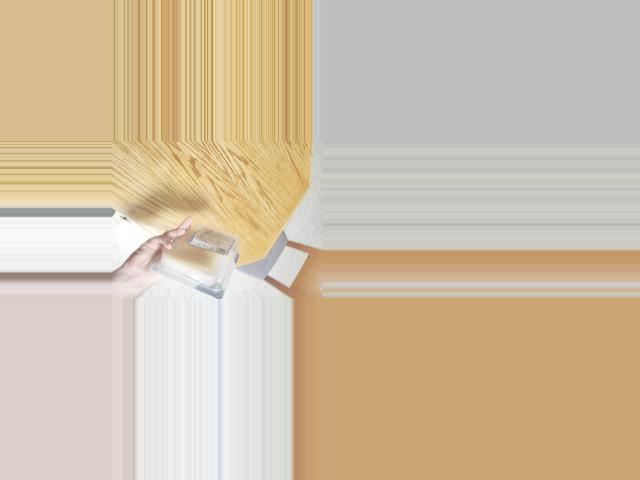cheese: (160, 226, 239, 293)
